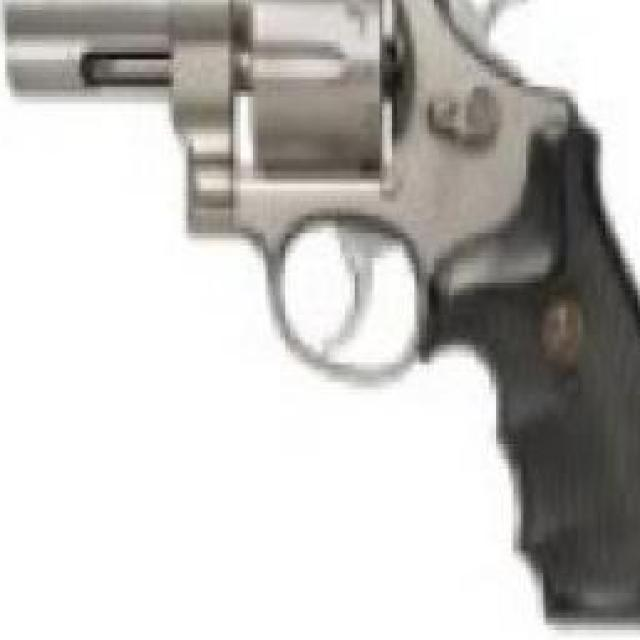pistol: (20, 0, 640, 625)
